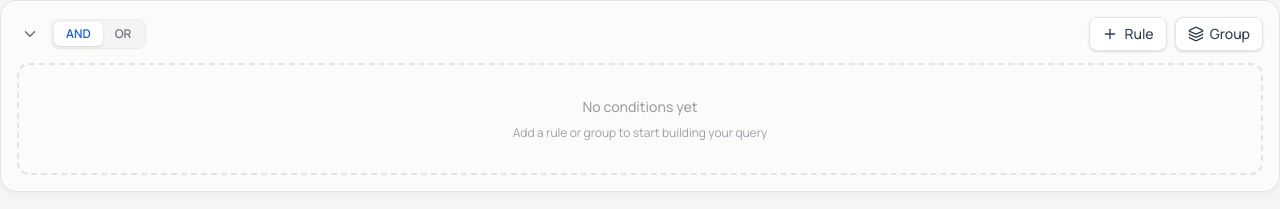
QueryBuilder Integration › can delete rules from the builder
// Add a rule
Click the button "Rule".
click(1128, 34)  # box [1090,17,1167,51]
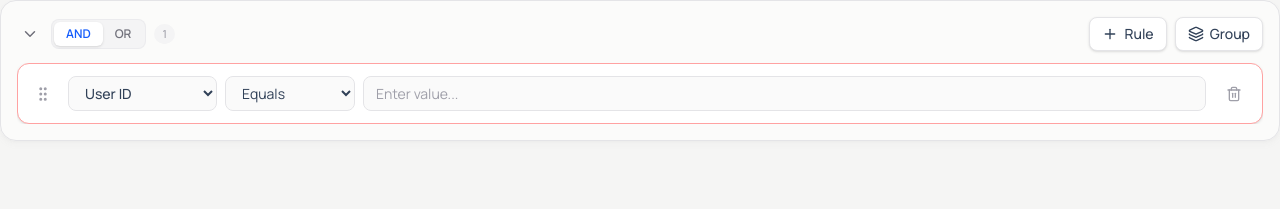
Expected: the button titled "Remove condition" is shown
// Click delete
Click the button titled "Remove condition".
click(1234, 94)  # box [1218,78,1250,110]
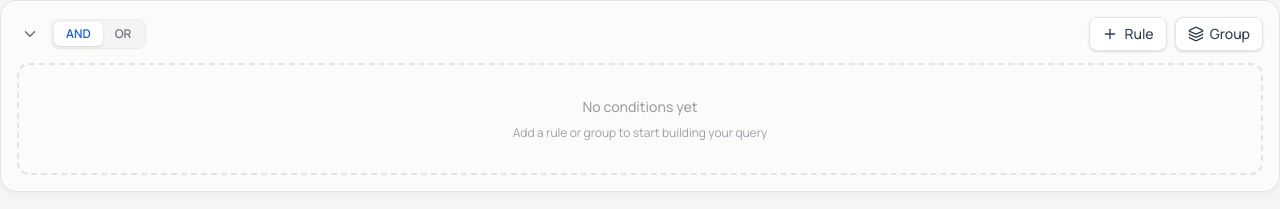
Expected: the text "No conditions yet" is shown, [582,97,697,117]
